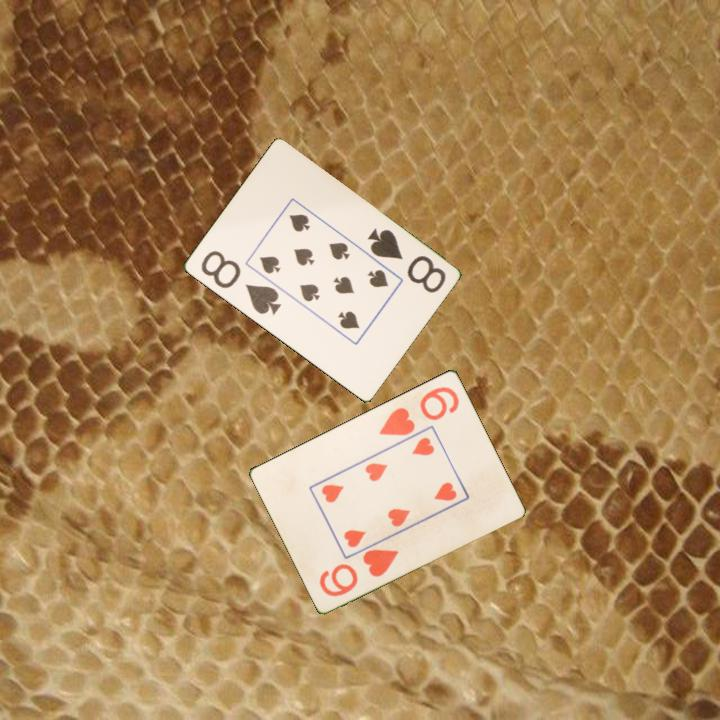6h: (375, 382, 462, 438), (316, 543, 402, 599)
8s: (197, 247, 284, 318), (364, 225, 449, 296)
